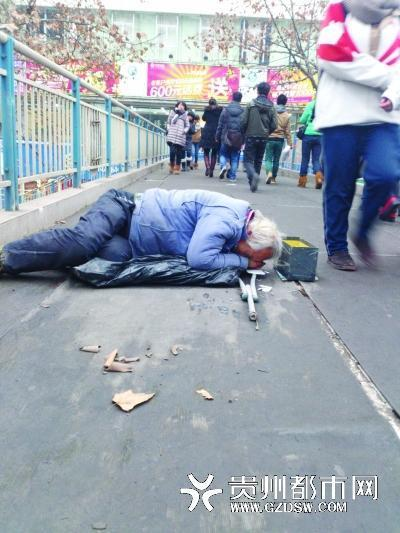Fall-Detected: (4, 174, 276, 296)
